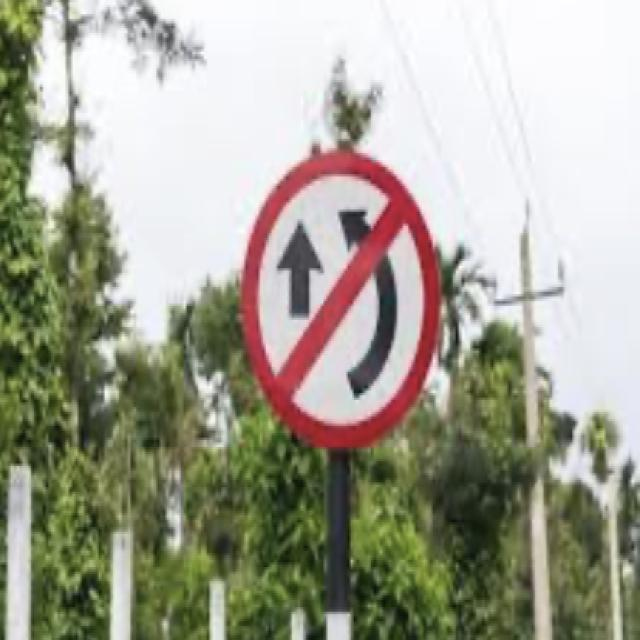overtaking prohibited: (239, 145, 442, 453)
